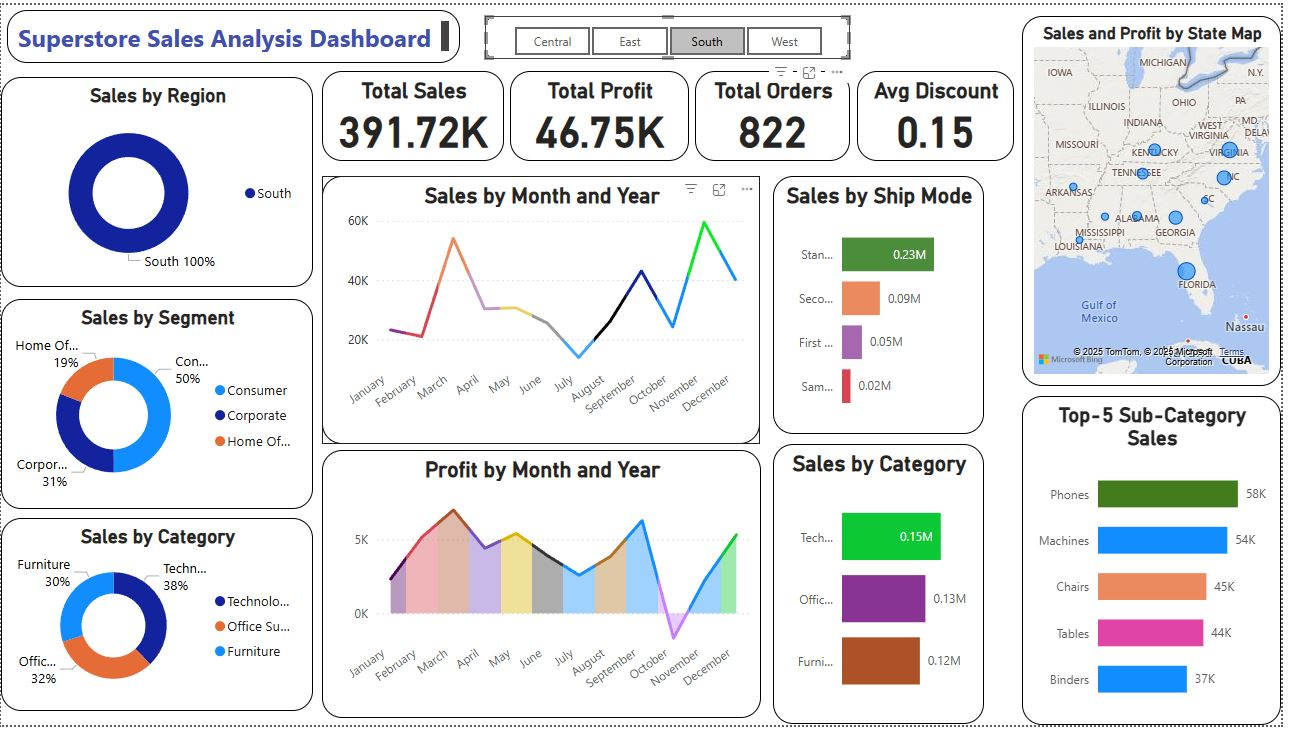

This screenshot's page, from the dashboard's own definition file:
{"tool":"powerbi","page":{"name":"Page 1","canvas":[1280,720],"ordinal":0},"visuals":[{"type":"card","title":"Total Sales","fields":{"Values":["Sum(Sample - Superstore.Sales)"]},"box":[321.4,65.5,181.3,90.7],"z":0},{"type":"textbox","box":[6.3,5.4,453.4,53],"z":1000},{"type":"card","title":"Total Profit","fields":{"Values":["Sum(Sample - Superstore.Profit)"]},"box":[509,65.5,178.7,90.7],"z":2000},{"type":"card","title":"Total Orders","fields":{"Values":["Count(Sample - Superstore.Order ID)"]},"box":[694,65.5,155.3,90.7],"z":3000},{"type":"card","title":"Avg Discount","fields":{"Values":["Avg(Sample - Superstore.Discount)"]},"box":[856.5,65.5,156.2,90.7],"z":4000},{"type":"slicer","fields":{"Values":["Sample - Superstore.Region"]},"box":[483.9,10.8,365.4,43.1],"z":5000},{"type":"donutChart","title":" Sales by Region","fields":{"Category":["Sample - Superstore.Region"],"Y":["Sum(Sample - Superstore.Sales)"]},"box":[0,71.8,312.4,210.1],"z":6000},{"type":"donutChart","title":"Sales by Segment","fields":{"Category":["Sample - Superstore.Segment"],"Y":["Sum(Sample - Superstore.Sales)"]},"box":[0,293.6,312.4,210.1],"z":7000},{"type":"donutChart","title":"Sales by Category","fields":{"Category":["Sample - Superstore.Category"],"Y":["Sum(Sample - Superstore.Sales)"]},"box":[0,512.6,312.4,193],"z":8000},{"type":"clusteredBarChart","title":"Sales by Ship Mode","fields":{"Category":["Sample - Superstore.Ship Mode"],"Y":["Sum(Sample - Superstore.Sales)"]},"box":[772.1,170.6,211,258.6],"z":9000},{"type":"lineChart","title":"Sales by Month and Year","fields":{"Category":["Sample - Superstore.Order Date.Variation.Date Hierarchy.Month"],"Y":["Sum(Sample - Superstore.Sales)"]},"box":[321.4,170.6,437.2,268.4],"z":10000},{"type":"map","title":"Sales and Profit by State Map","fields":{"Category":["Sample - Superstore.State"],"Size":["Sum(Sample - Superstore.Sales)"]},"box":[1020.7,10.8,259.5,369.9],"z":11000},{"type":"clusteredBarChart","title":"Top-5 Sub-Category Sales","fields":{"Category":["Sample - Superstore.Sub-Category"],"Y":["Sum(Sample - Superstore.Sales)"]},"box":[1020.7,390.5,259.5,329.5],"z":12000},{"type":"areaChart","title":"Profit by Month and Year","fields":{"Category":["Sample - Superstore.Order Date.Variation.Date Hierarchy.Month"],"Y":["Sum(Sample - Superstore.Profit)"]},"box":[321.4,445.3,438.1,267.5],"z":13000},{"type":"clusteredBarChart","title":"Sales by Category","fields":{"Category":["Sample - Superstore.Category"],"Y":["Sum(Sample - Superstore.Sales)"]},"box":[772.1,439,211,280.1],"z":14000}]}

Visuals, with their boxes in screenshot pixels (x1, y1, x2, y2):
"Total Sales" card: <region>320, 69, 500, 159</region>
textbox: <region>6, 9, 457, 61</region>
"Total Profit" card: <region>506, 69, 684, 159</region>
"Total Orders" card: <region>690, 69, 845, 159</region>
"Avg Discount" card: <region>852, 69, 1007, 159</region>
slicer - Sample - Superstore.Region: <region>481, 14, 845, 57</region>
" Sales by Region" donutChart: <region>0, 75, 311, 284</region>
"Sales by Segment" donutChart: <region>0, 295, 311, 504</region>
"Sales by Category" donutChart: <region>0, 513, 311, 705</region>
"Sales by Ship Mode" clusteredBarChart: <region>768, 173, 978, 430</region>
"Sales by Month and Year" lineChart: <region>320, 173, 755, 440</region>
"Sales and Profit by State Map" map: <region>1015, 14, 1273, 382</region>
"Top-5 Sub-Category Sales" clusteredBarChart: <region>1015, 392, 1273, 720</region>
"Profit by Month and Year" areaChart: <region>320, 446, 755, 712</region>
"Sales by Category" clusteredBarChart: <region>768, 440, 978, 719</region>
